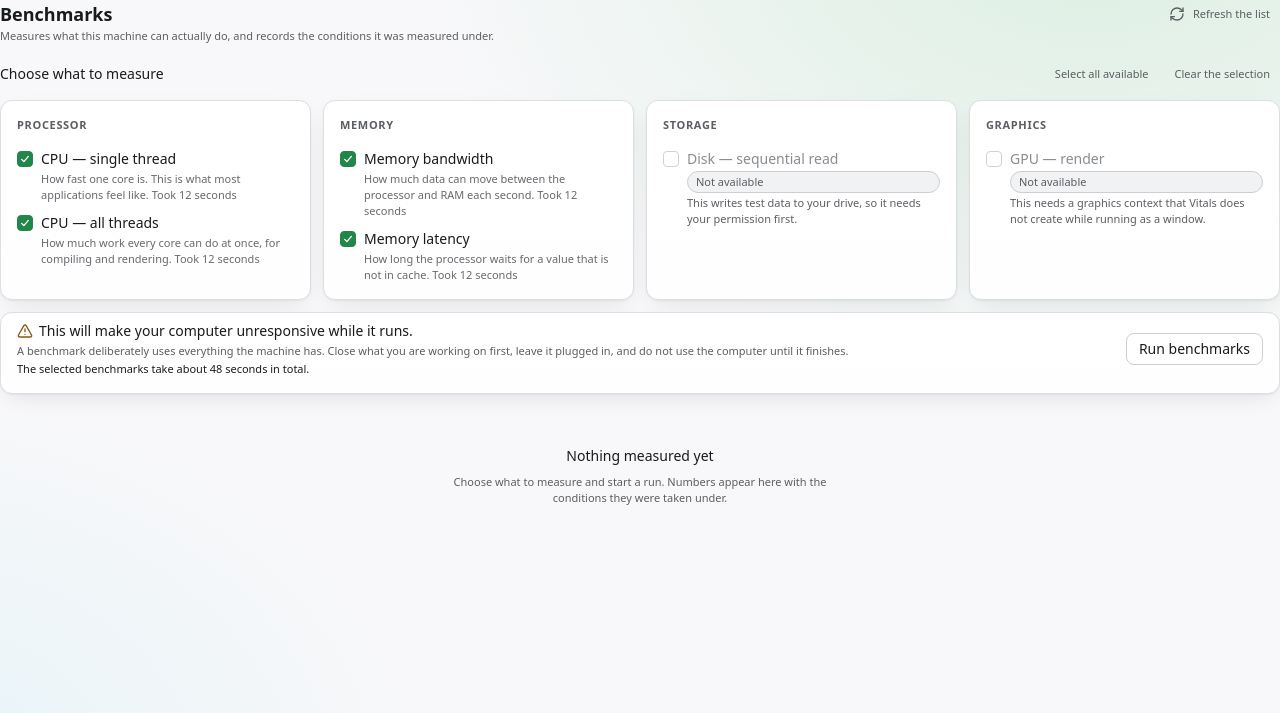
Test: BenchmarksScreen › results › marks a clean run as clean
Expected: the heading "Benchmarks" is shown, [0,2,112,26]
Click the button "Run benchmarks". click: (1194, 349)
box: [1126,333,1263,365]
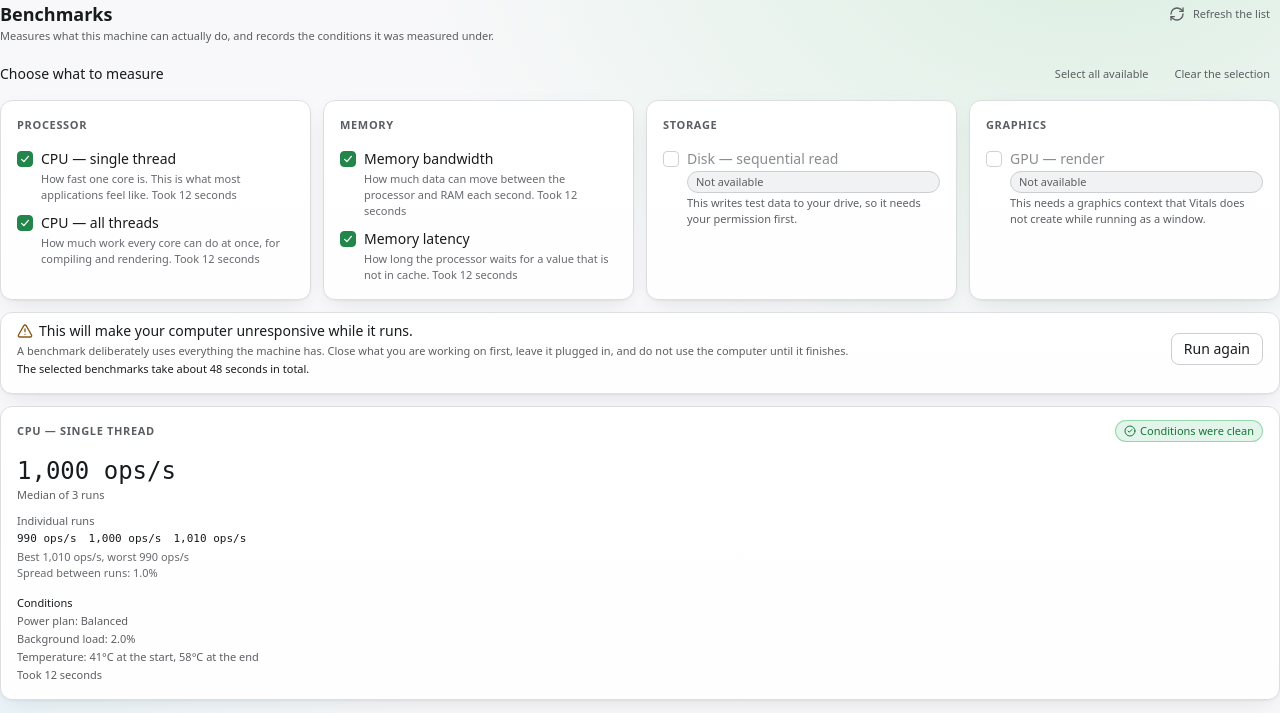
Expected: the text "Conditions were clean" is shown, [1115,420,1263,442]
